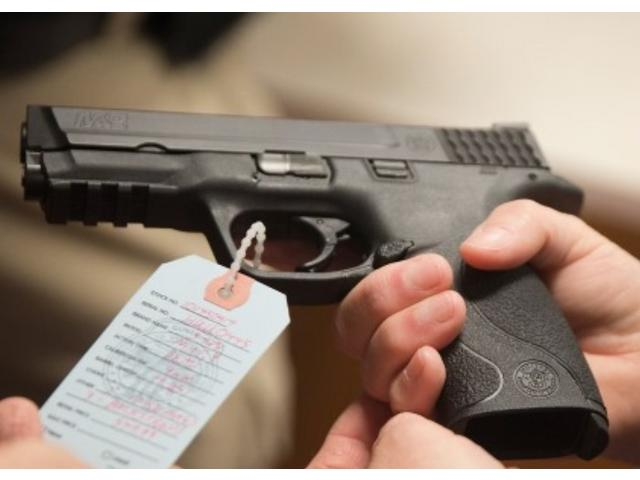pistol: (18, 104, 609, 461)
